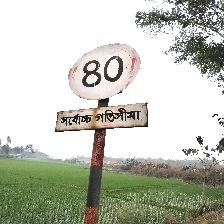Speed-limit: (57, 43, 148, 133)
